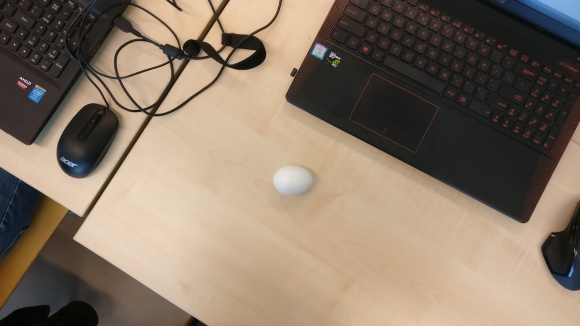egg: (273, 161, 313, 197)
